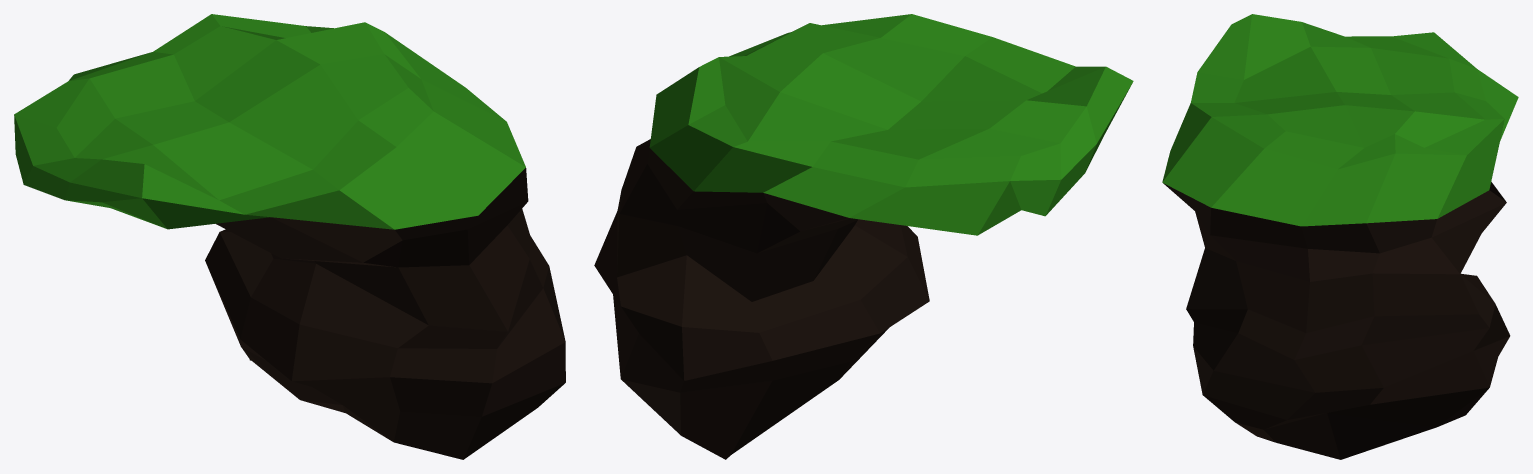
File: Island2.FBX
The picture shows the model from 3 angles, left to right: view 1: azimuth 30°, elevation 25°; view 2: azimuth 150°, elevation 25°; view 3: azimuth 270°, elevation 25°; orthographic projection. The views are drawn at different scales.
Visible parts, largest first — view 1: Mesh_Island_002; view 2: Mesh_Island_002; view 3: Mesh_Island_002.
Part boxes in pixels (left/top/right/bottom): Mesh_Island_002: left=14, top=14, right=565, bottom=459; Mesh_Island_002: left=594, top=14, right=1133, bottom=459; Mesh_Island_002: left=1162, top=14, right=1518, bottom=459.
Size of the model in its own units: 511 by 394 by 415.
